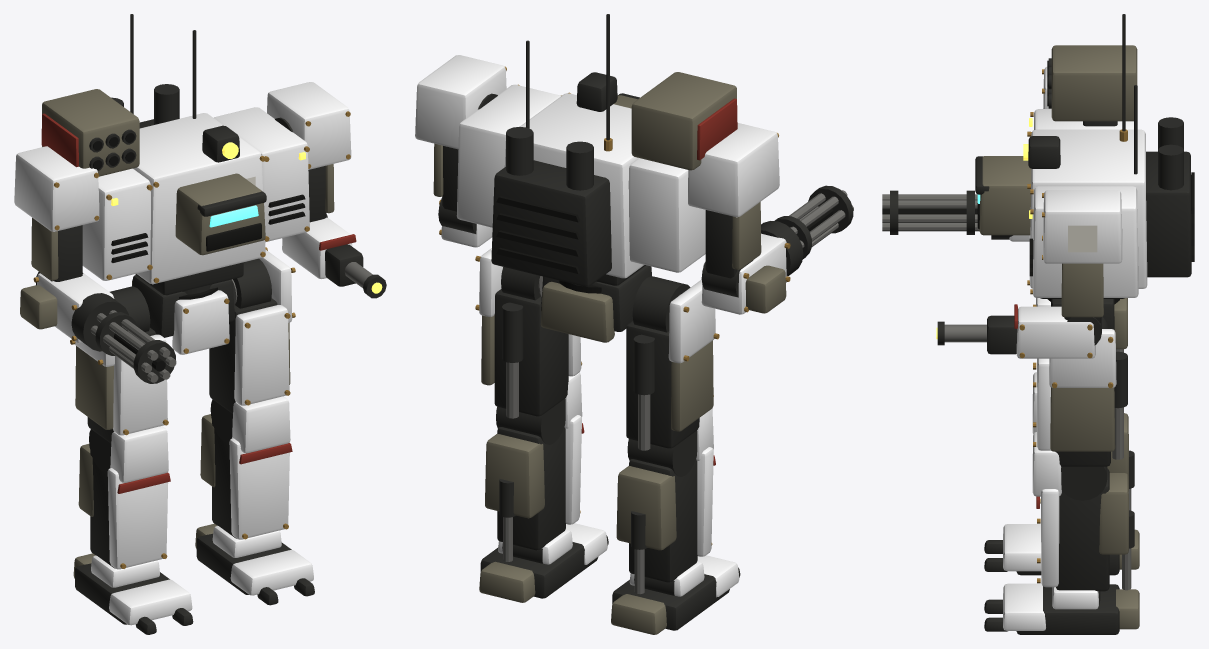
The model's file is striker_A.glb.
3 renders of one model, left to right at view 1: azimuth 30°, elevation 25°; view 2: azimuth 150°, elevation 25°; view 3: azimuth 270°, elevation 25°, orthographic. The views are drawn at different scales.
Visible parts, largest first — view 1: torso_mesh, knee_L_mesh, knee_R_mesh, hip_L_mesh, shoulder_R_mesh, hip_R_mesh, shoulder_L_mesh, ankle_L_mesh, ankle_R_mesh, pelvis_mesh, elbow_R_mesh, elbow_L_mesh (+1 smaller); view 2: torso_mesh, hip_R_mesh, knee_L_mesh, knee_R_mesh, hip_L_mesh, shoulder_R_mesh, shoulder_L_mesh, ankle_R_mesh, ankle_L_mesh, elbow_R_mesh, pelvis_mesh, gatling_spin_mesh (+1 smaller); view 3: torso_mesh, knee_L_mesh, hip_L_mesh, shoulder_L_mesh, ankle_L_mesh, elbow_L_mesh, gatling_spin_mesh, ankle_R_mesh, pelvis_mesh, knee_R_mesh, DECAL_mark_L.
Part boxes in pixels (box(x1,y1,x2,y2)): torso_mesh: box(41, 14, 309, 295); knee_L_mesh: box(200, 396, 292, 539); knee_R_mesh: box(78, 426, 170, 569); hip_L_mesh: box(209, 247, 295, 413); shoulder_R_mesh: box(14, 146, 99, 281); hip_R_mesh: box(70, 286, 168, 443); shoulder_L_mesh: box(267, 82, 351, 222); ankle_L_mesh: box(195, 523, 314, 605); ankle_R_mesh: box(73, 553, 193, 634); pelvis_mesh: box(132, 275, 234, 354); elbow_R_mesh: box(20, 272, 128, 351); elbow_L_mesh: box(282, 214, 386, 298); torso_mesh: box(456, 14, 737, 286); hip_R_mesh: box(626, 276, 719, 450); knee_L_mesh: box(485, 372, 584, 561); knee_R_mesh: box(616, 408, 715, 594); hip_L_mesh: box(475, 248, 582, 418); shoulder_R_mesh: box(688, 123, 779, 278); shoulder_L_mesh: box(415, 55, 506, 211); ankle_R_mesh: box(611, 555, 740, 634); ankle_L_mesh: box(479, 523, 608, 602); elbow_R_mesh: box(701, 221, 803, 314); pelvis_mesh: box(540, 265, 651, 342); gatling_spin_mesh: box(774, 185, 853, 259); torso_mesh: box(975, 14, 1194, 298); knee_L_mesh: box(1032, 432, 1134, 591); hip_L_mesh: box(1033, 317, 1127, 466); shoulder_L_mesh: box(1042, 190, 1122, 323); ankle_L_mesh: box(984, 583, 1139, 634); elbow_L_mesh: box(936, 304, 1101, 358); gatling_spin_mesh: box(882, 190, 979, 234); ankle_R_mesh: box(984, 524, 1139, 575); pelvis_mesh: box(1033, 298, 1127, 349); knee_R_mesh: box(1032, 372, 1134, 523); DECAL_mark_L: box(1068, 225, 1097, 252).
Bounding box in the file's own units: 6.14 × 10.53 × 5.3.
